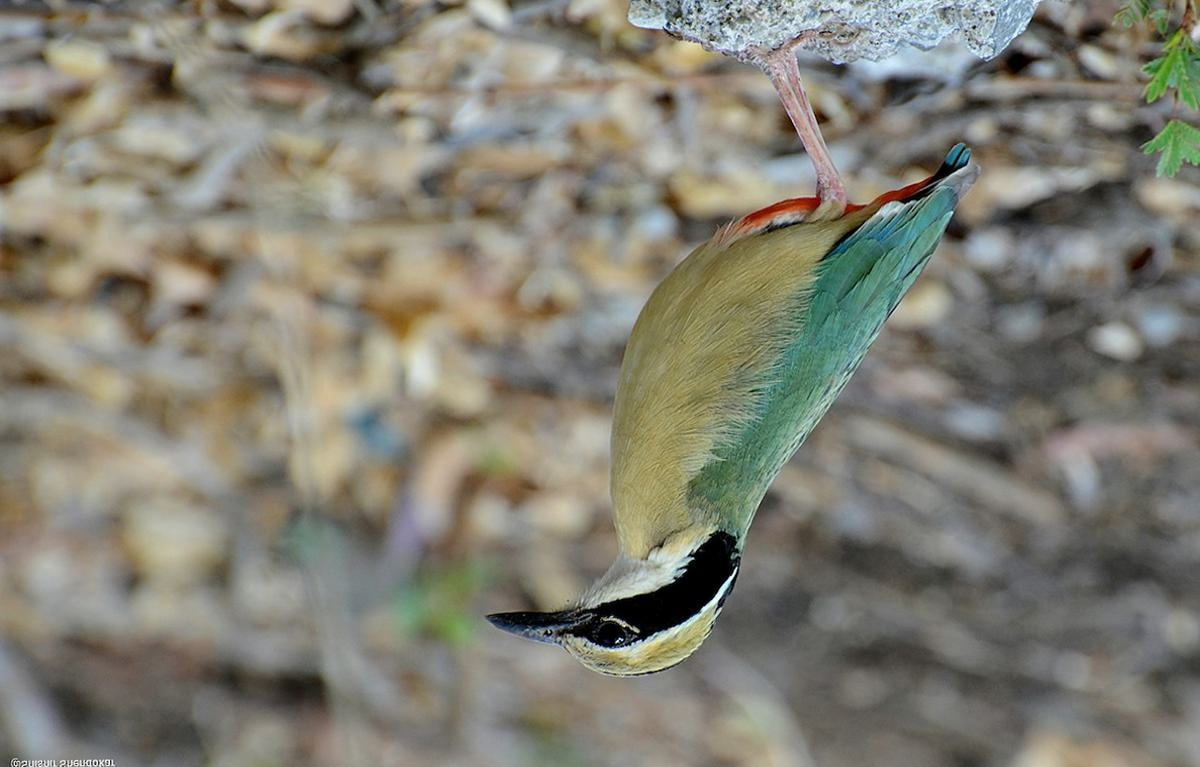pitta: (470, 14, 1017, 725)
